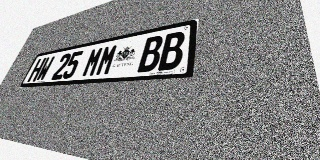2: (51, 53, 73, 80)
5: (61, 50, 84, 79)
B: (158, 30, 186, 71), (137, 35, 164, 73)
H: (27, 58, 47, 82)
M: (94, 43, 119, 76), (81, 46, 105, 77)
W: (35, 56, 55, 81)
